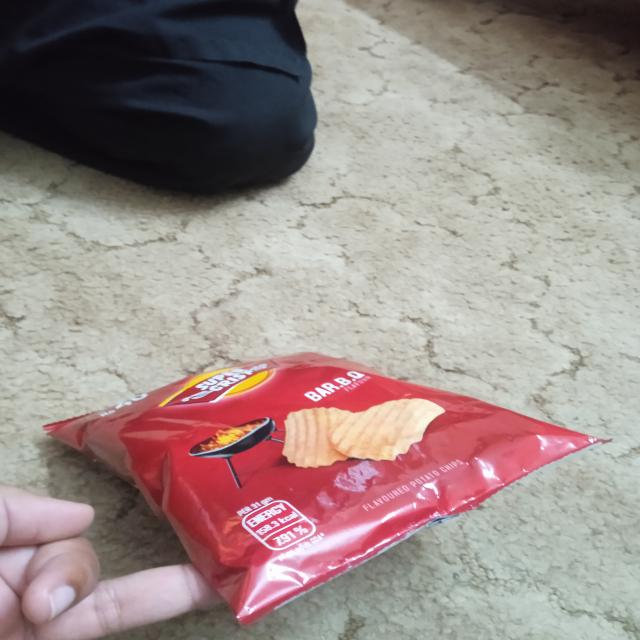Plastic: (46, 352, 614, 574)
